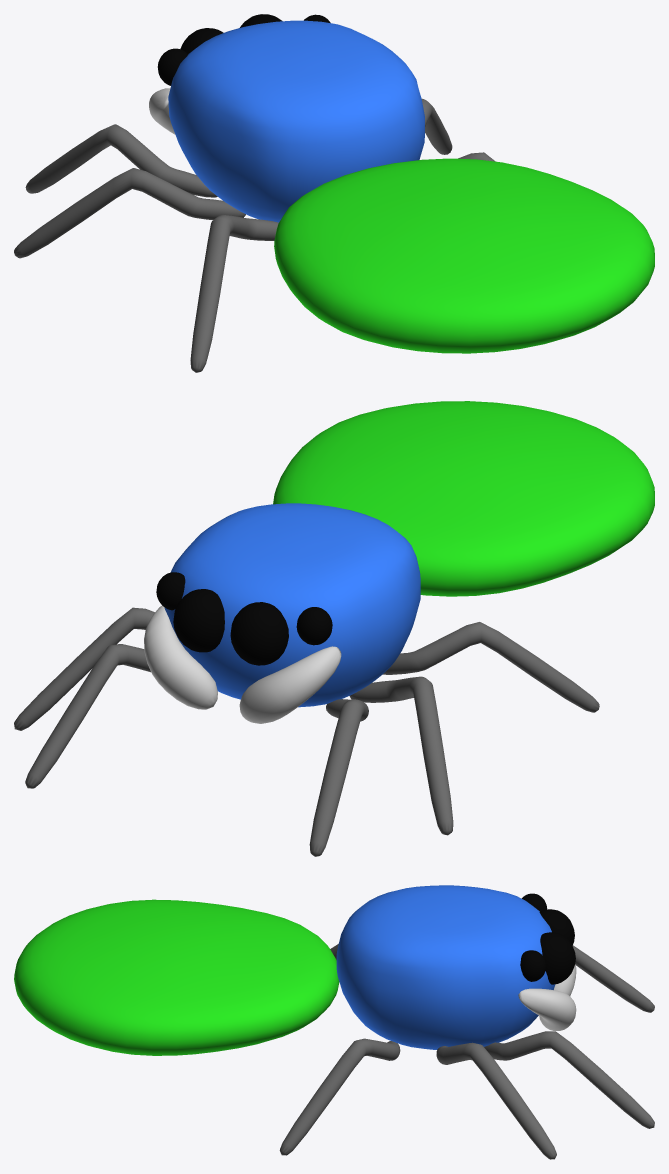
File: Spider44.glb
The picture shows the model from 3 angles, top to bottom: view 1: azimuth 30°, elevation 25°; view 2: azimuth 150°, elevation 25°; view 3: azimuth 270°, elevation 25°; orthographic projection. The views are drawn at different scales.
Parts seen in each view (by area): view 1: Butt, Head, Leg.003, Leg.005, Leg.001, Leg.002, Pincer.001, Eye.002, Eye; view 2: Butt, Head, Leg.005, Leg.003, Pincer.001, Pincer, Leg, Leg.001, Leg.002, Eye, Eye.001, Eye.002 (+1 smaller); view 3: Butt, Head, Leg, Leg.004, Leg.002, Pincer, Leg.001, Eye.001, Eye.003, Eye.
Part boxes in pixels (<box>): Butt: <box>274,158,654,353</box>; Head: <box>168,20,424,222</box>; Leg.003: <box>14,168,245,258</box>; Leg.005: <box>190,215,278,372</box>; Leg.001: <box>25,124,217,197</box>; Leg.002: <box>422,98,452,154</box>; Pincer.001: <box>149,88,175,134</box>; Eye.002: <box>157,48,188,85</box>; Eye: <box>180,28,223,53</box>; Butt: <box>273,401,654,596</box>; Head: <box>164,503,420,707</box>; Leg.005: <box>383,622,599,712</box>; Leg.003: <box>349,676,453,835</box>; Pincer.001: <box>239,646,341,723</box>; Pincer: <box>144,605,217,709</box>; Leg: <box>25,644,150,788</box>; Leg.001: <box>309,699,368,856</box>; Leg.002: <box>14,607,154,730</box>; Eye: <box>230,602,288,665</box>; Eye.001: <box>173,589,224,652</box>; Eye.002: <box>296,607,332,645</box>; Butt: <box>14,899,339,1055</box>; Head: <box>336,885,555,1049</box>; Leg: <box>484,1031,654,1128</box>; Leg.004: <box>279,1038,400,1155</box>; Leg.002: <box>436,1042,556,1159</box>; Pincer: <box>518,988,576,1030</box>; Leg.001: <box>572,945,654,1012</box>; Eye.001: <box>540,932,575,984</box>; Eye.003: <box>520,950,546,981</box>; Eye: <box>539,909,574,945</box>.
Bounding box in the file's own units: 0.3311 × 0.1445 × 0.5081.
